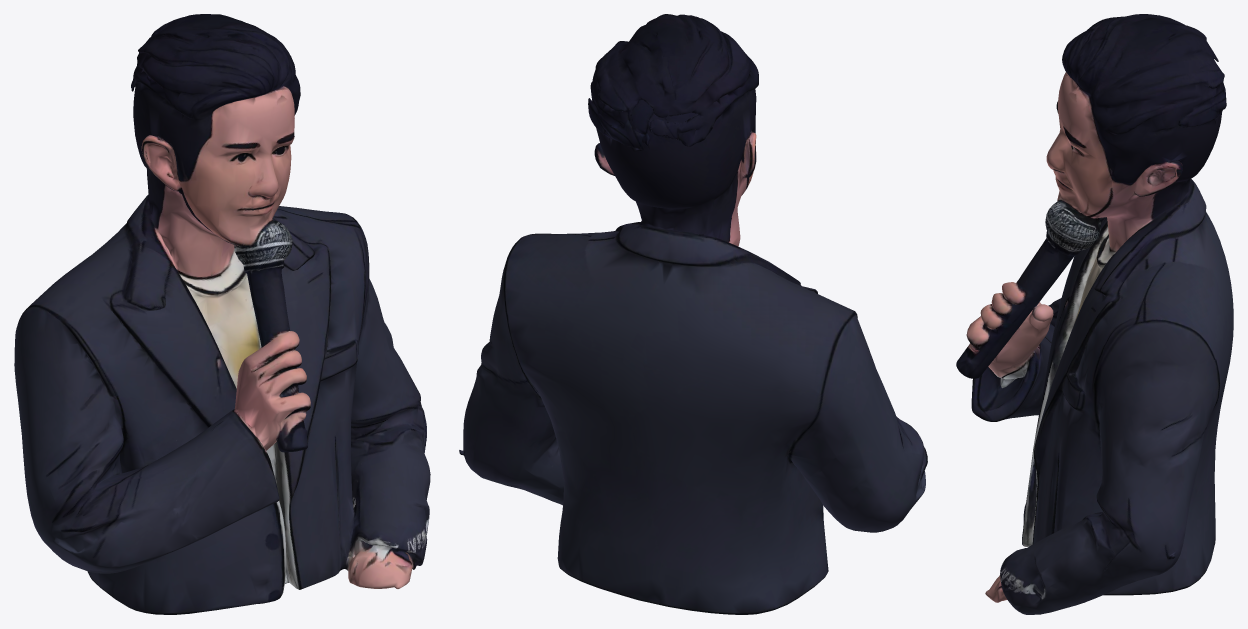
The model's file is speaker-figure.glb.
3 renders of one model, left to right at view 1: azimuth 30°, elevation 25°; view 2: azimuth 150°, elevation 25°; view 3: azimuth 270°, elevation 25°, orthographic. The views are drawn at different scales.
Parts seen in each view (by area): view 1: tripo_node_0dc05ac4-f08d-4765-8cb8-2cff9e4ac7fe; view 2: tripo_node_0dc05ac4-f08d-4765-8cb8-2cff9e4ac7fe; view 3: tripo_node_0dc05ac4-f08d-4765-8cb8-2cff9e4ac7fe.
Part boxes in pixels (x1=…): tripo_node_0dc05ac4-f08d-4765-8cb8-2cff9e4ac7fe: x1=14, y1=14, x2=430, y2=614; tripo_node_0dc05ac4-f08d-4765-8cb8-2cff9e4ac7fe: x1=459, y1=14, x2=927, y2=614; tripo_node_0dc05ac4-f08d-4765-8cb8-2cff9e4ac7fe: x1=956, y1=14, x2=1233, y2=614.
Bounding box in the file's own units: 0.7912 × 0.9996 × 0.4775.
Materials: 1 (1 with a texture image).
